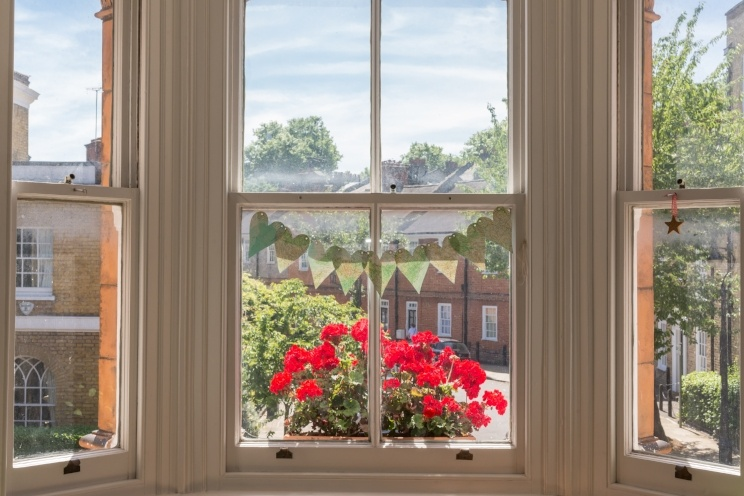Window: (235, 2, 526, 476), (8, 3, 141, 464), (615, 2, 744, 473)
